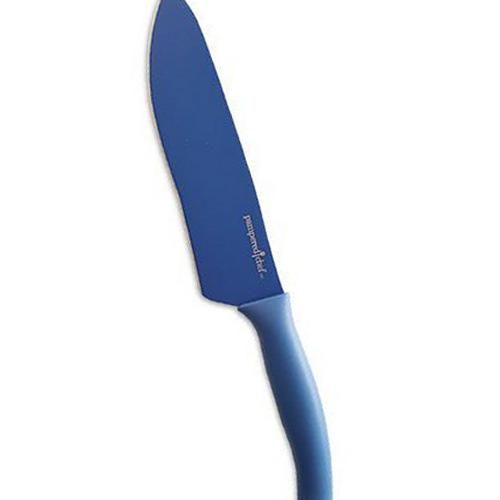knife: (146, 1, 336, 500)
